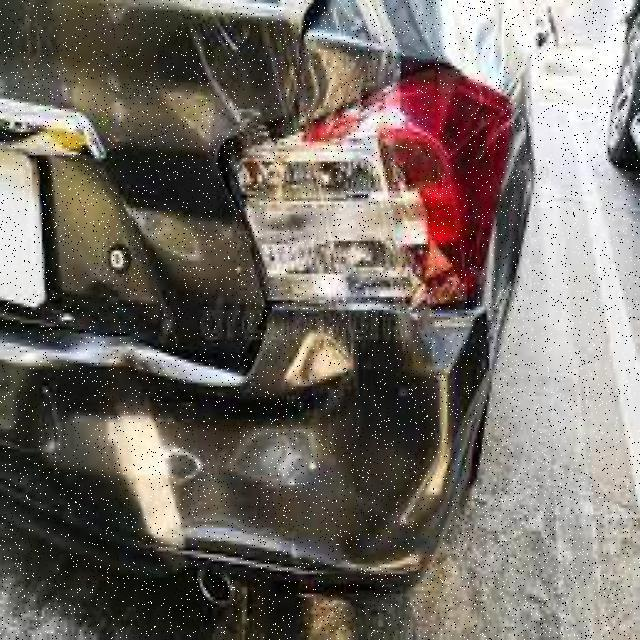Taillight-Damage: (224, 59, 512, 300)
rear-bumper-dent: (0, 326, 494, 594)
